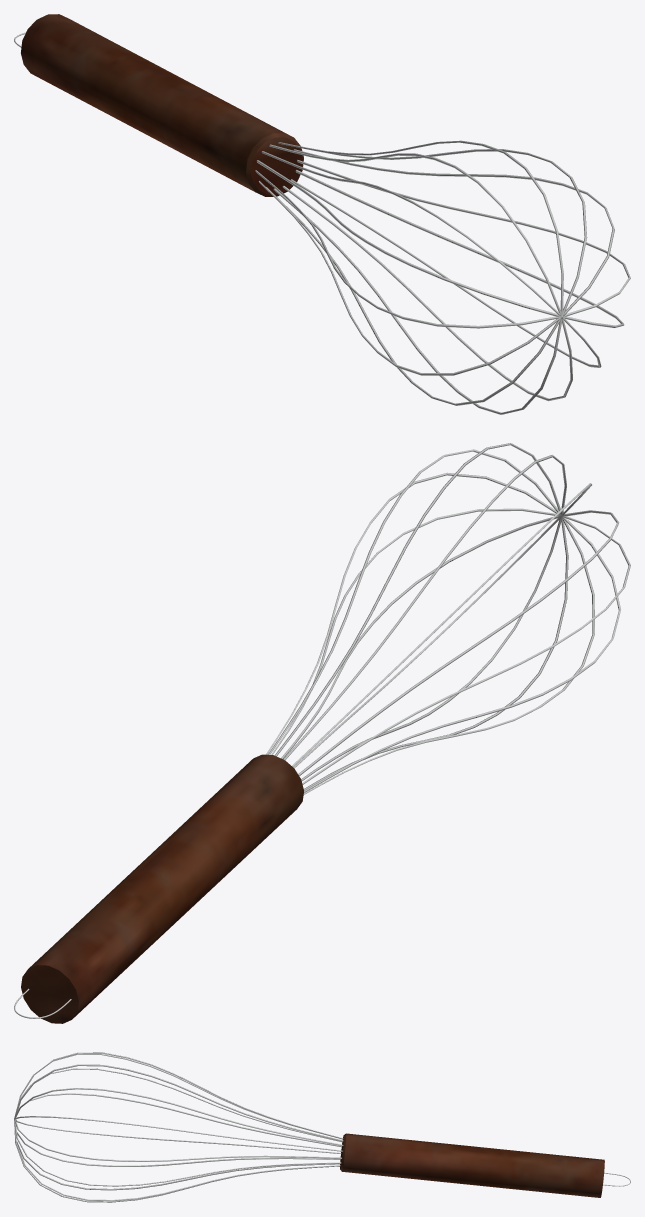
File: Prop_Kitchen_Whisk.fbx
The picture shows the model from 3 angles, top to bottom: view 1: azimuth 30°, elevation 25°; view 2: azimuth 150°, elevation 25°; view 3: azimuth 270°, elevation 25°; orthographic projection. The views are drawn at different scales.
Visible parts, largest first — view 1: Prop_Kitchen_Whisk; view 2: Prop_Kitchen_Whisk; view 3: Prop_Kitchen_Whisk.
Boxes of the visible parts, <box> form: Prop_Kitchen_Whisk: <box>14,14,630,414</box>; Prop_Kitchen_Whisk: <box>14,443,630,1023</box>; Prop_Kitchen_Whisk: <box>14,1052,630,1202</box>.
Bounding box in the file's own units: 4.3 × 4.24 × 17.32.
